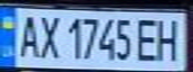1: (63, 13, 84, 60)
4: (97, 15, 118, 61)
5: (112, 16, 136, 62)
7: (78, 15, 100, 60)
A: (12, 11, 42, 60)
E: (133, 16, 163, 62)
H: (151, 16, 187, 62)
X: (33, 12, 63, 60)
